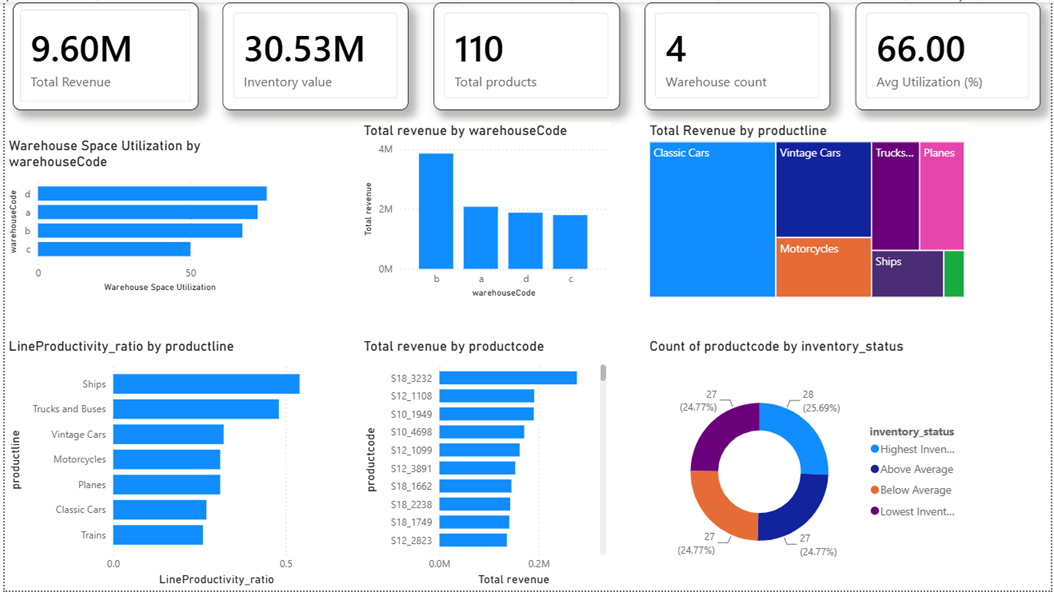

The dashboard page shown, as its layout file describes it:
{"tool":"powerbi","page":{"name":"Page 1","canvas":[1280,720],"ordinal":0},"visuals":[{"type":"cardVisual","fields":{"Data":["Sum(BI warehouse.total_revenue)"]},"box":[9.6,0,227,131.7],"z":0},{"type":"cardVisual","fields":{"Data":["Sum(BI warehouse.Inventory_value)"]},"box":[267,0,227,131.7],"z":1000},{"type":"cardVisual","fields":{"Data":["Sum(BI warehouse.total_products)"]},"box":[524.5,0,227.8,131.7],"z":2000},{"type":"cardVisual","fields":{"Data":["CountNonNull(BI warehouse.warehouseName)"]},"box":[782.7,0,227,131.7],"z":3000},{"type":"barChart","fields":{"Category":["BI warehouse.warehouseCode"],"Y":["Avg(BI warehouse.warehousePctCap)"]},"box":[0,165.5,351.3,194.5],"z":4000},{"type":"cardVisual","fields":{"Data":["Avg(BI warehouse.warehousePctCap)"]},"box":[1040.1,0,226.4,131.7],"z":5000},{"type":"columnChart","fields":{"Category":["BI warehouse.warehouseCode"],"Y":["Sum(BI warehouse.total_revenue)"]},"box":[433.6,146.8,307.4,219.6],"z":6000},{"type":"treemap","fields":{"Group":["Productline.productline"],"Values":["Sum(Productline.Line_revenue)"]},"box":[783.5,146.8,395.2,219.6],"z":7000},{"type":"clusteredBarChart","fields":{"Category":["Productline.productline"],"Y":["Sum(Productline.LineProductivity_ratio)"]},"box":[0,410.8,399.2,309.2],"z":8000},{"type":"clusteredBarChart","fields":{"Category":["Product.productcode"],"Y":["Sum(Product.product_revenue)"]},"box":[434,411,307,309],"z":9000},{"type":"donutChart","fields":{"Category":["Product.inventory_status"],"Y":["CountNonNull(Product.productcode)"]},"box":[784,411,395,309],"z":10000}]}

Visuals, with their boxes in screenshot pixels (x1, y1, x2, y2), scaled from the page's 1280x720 canvas onto the 1054x592 screenshot:
cardVisual - Sum(BI warehouse.total_revenue): [8,0,195,108]
cardVisual - Sum(BI warehouse.Inventory_value): [220,0,407,108]
cardVisual - Sum(BI warehouse.total_products): [432,0,619,108]
cardVisual - CountNonNull(BI warehouse.warehouseName): [645,0,831,108]
barChart - BI warehouse.warehouseCode x Avg(BI warehouse.warehousePctCap): [0,136,289,296]
cardVisual - Avg(BI warehouse.warehousePctCap): [856,0,1043,108]
columnChart - BI warehouse.warehouseCode x Sum(BI warehouse.total_revenue): [357,121,610,301]
treemap - Productline.productline x Sum(Productline.Line_revenue): [645,121,971,301]
clusteredBarChart - Productline.productline x Sum(Productline.LineProductivity_ratio): [0,338,329,591]
clusteredBarChart - Product.productcode x Sum(Product.product_revenue): [357,338,610,591]
donutChart - Product.inventory_status x CountNonNull(Product.productcode): [646,338,971,591]
